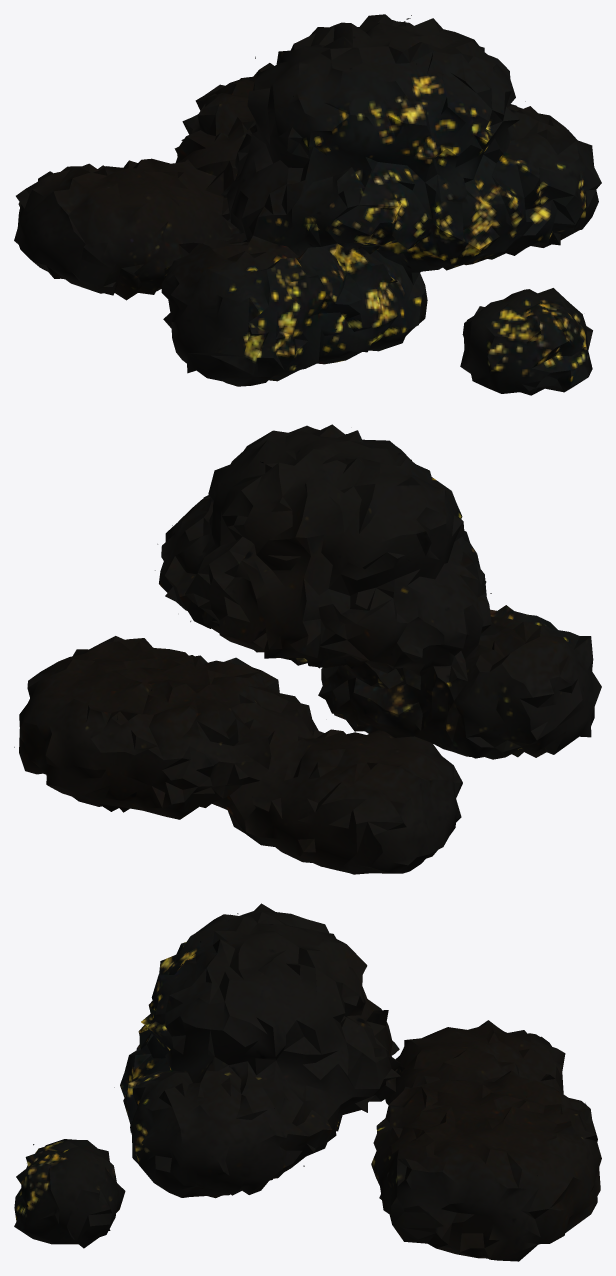
File: stylized-tree-clean_web.glb
3 views of the same model, one above another, from view 1: azimuth 30°, elevation 25°; view 2: azimuth 150°, elevation 25°; view 3: azimuth 270°, elevation 25° (orthographic). The views are drawn at different scales.
Visible parts, largest first — view 1: LOD0; view 2: LOD0; view 3: LOD0.
Part boxes in pixels (x1,y1,x2,y2): LOD0: (14, 14, 601, 395); LOD0: (14, 424, 601, 874); LOD0: (14, 903, 601, 1261).
Size of the model in its own units: 1.51 by 1.04 by 1.94.
Materials: 1 (1 with a texture image).
